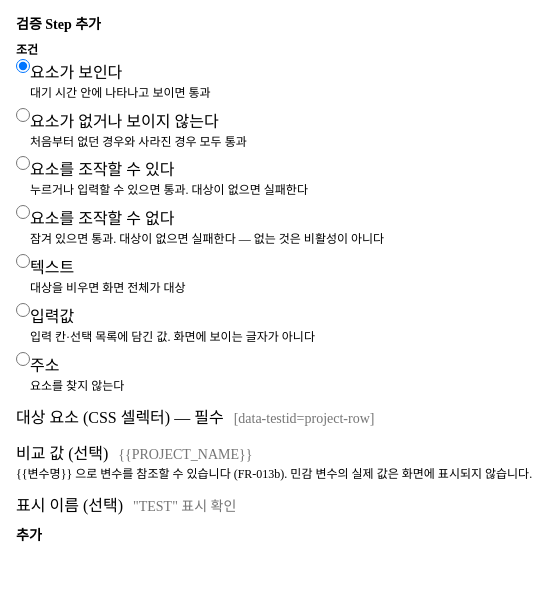
Test: 값을 쓰지 않는 종류에서는 값 칸이 사라진다 › 텍스트로 돌아오면 다시 나타난다
Click the radio button labelled "요소를 조작할 수 없다".
click(23, 212)  # box 16,205 -> 30,219
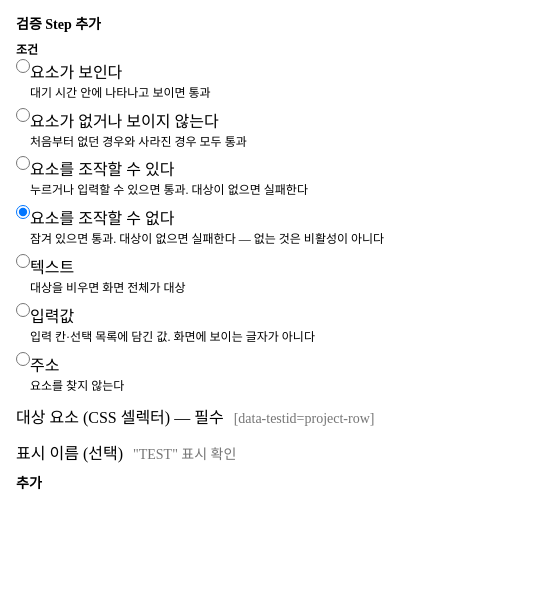
Click the radio button labelled "텍스트".
click(23, 261)  # box 16,254 -> 30,268
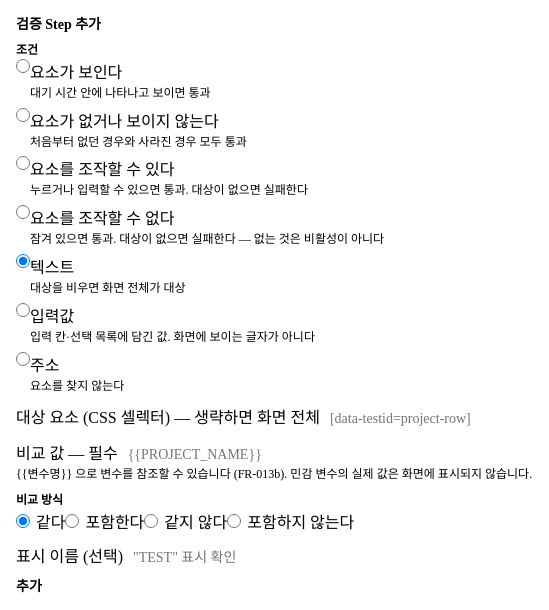
Now the field labelled "비교 값 — 필수" is shown, box 118,444 -> 316,466
